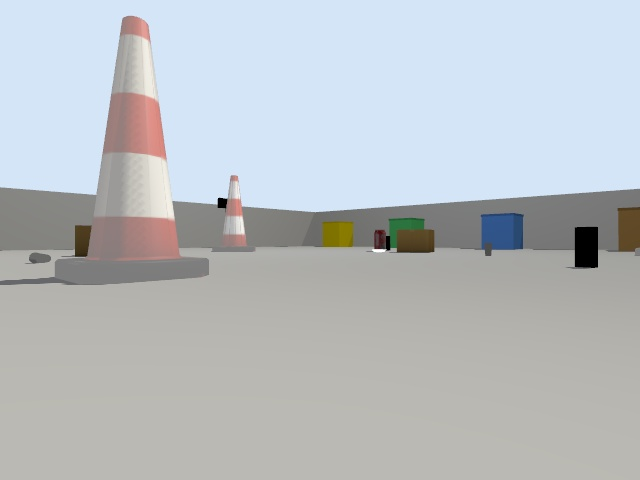boite_lettres: (217, 198, 226, 208)
bouteille_verre: (575, 227, 598, 268), (386, 235, 391, 251)
canette: (372, 229, 386, 251)
carton: (396, 229, 434, 252), (74, 225, 90, 256)
cone_chantier: (55, 16, 208, 284), (212, 175, 254, 252)
gobelet: (29, 252, 50, 263), (484, 242, 491, 256)
